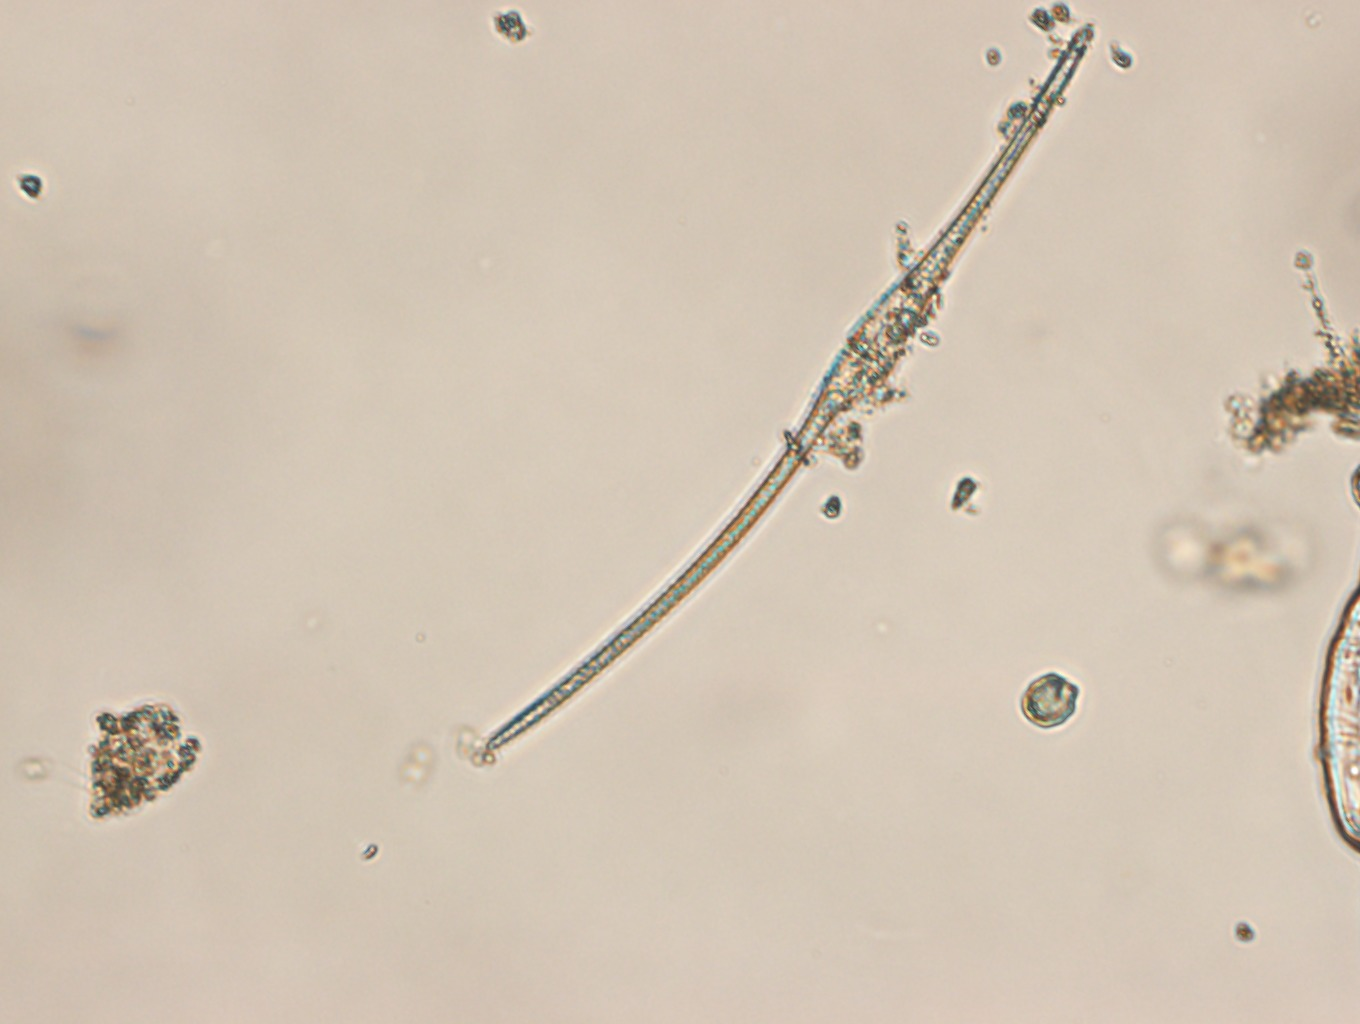ceratium fusus: (486, 22, 1101, 751)
